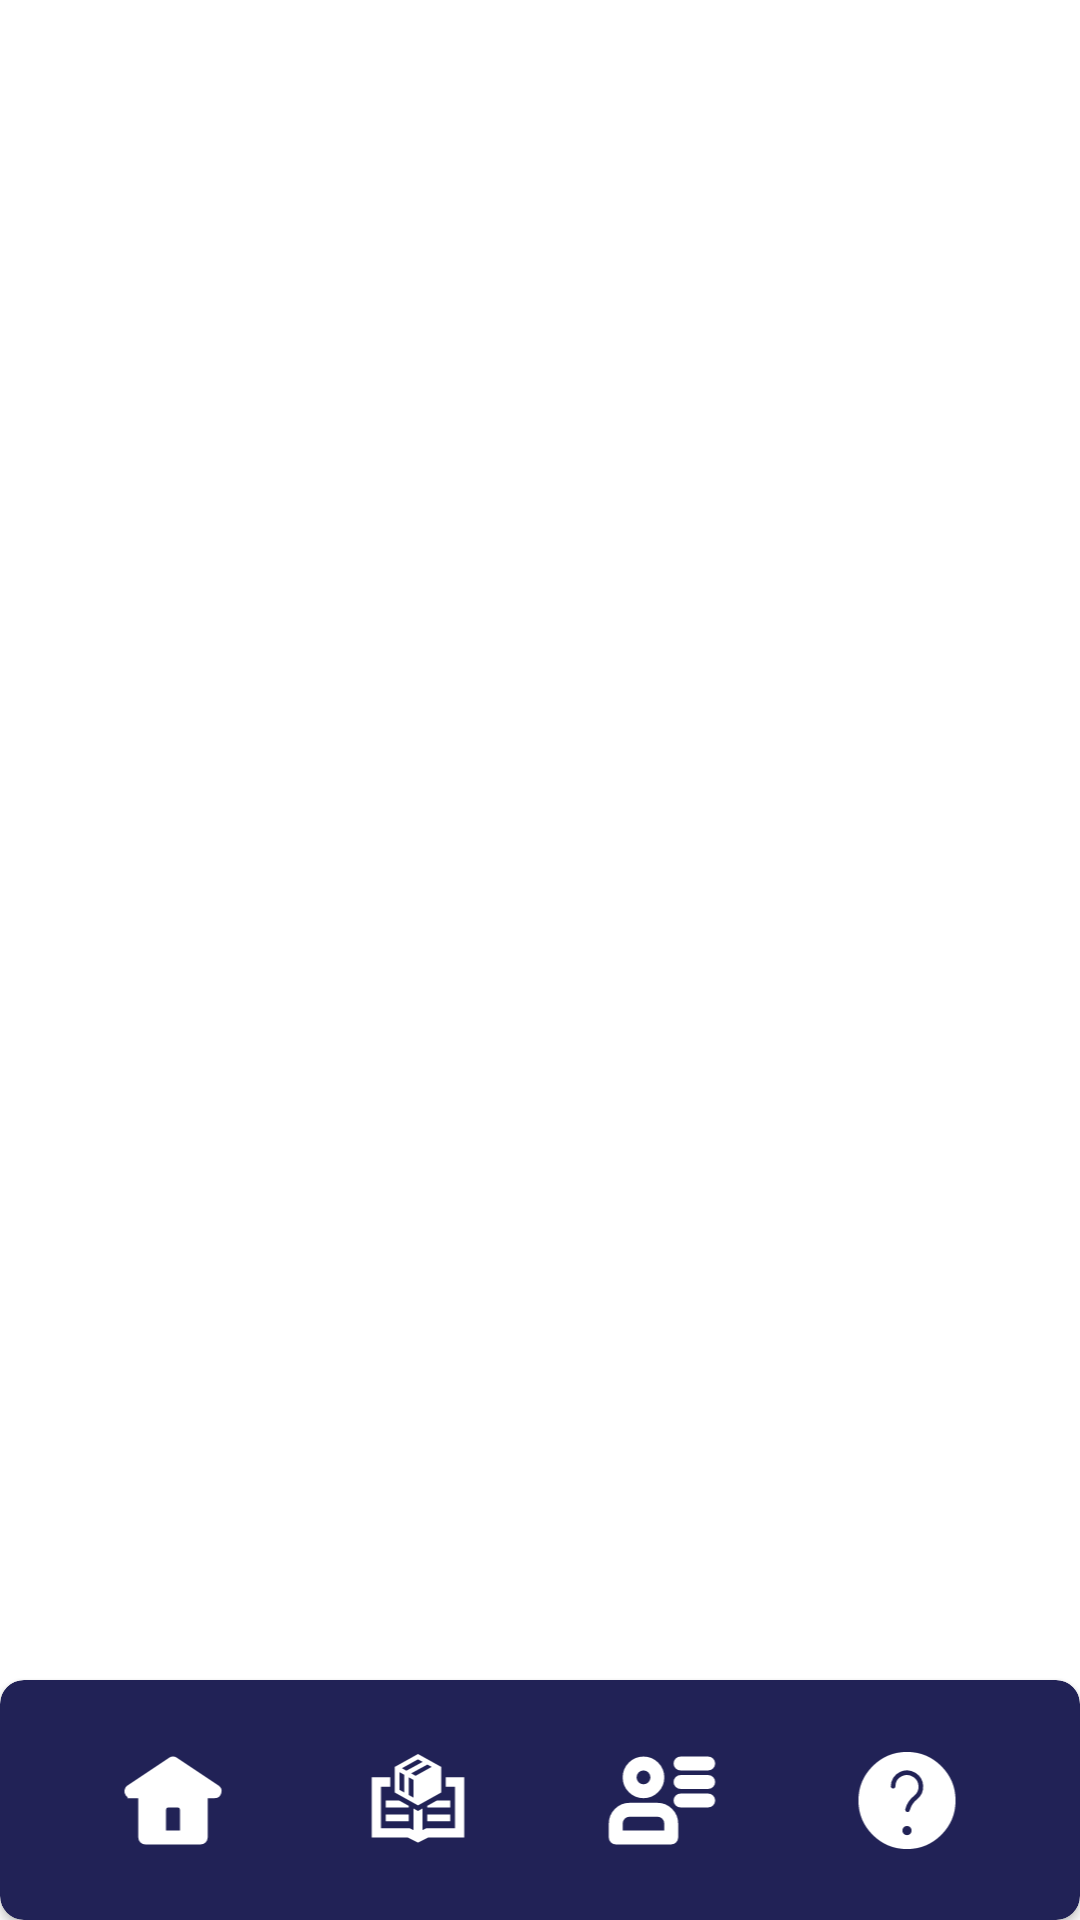

Locate icon controls on the screen. Image size 1080×1920, boxes as [x1,y1,x2,y2].
faq: [858,1752,956,1849]
inicio: [124,1756,222,1845]
producto: [371,1754,465,1843]
user: [608,1756,716,1845]
